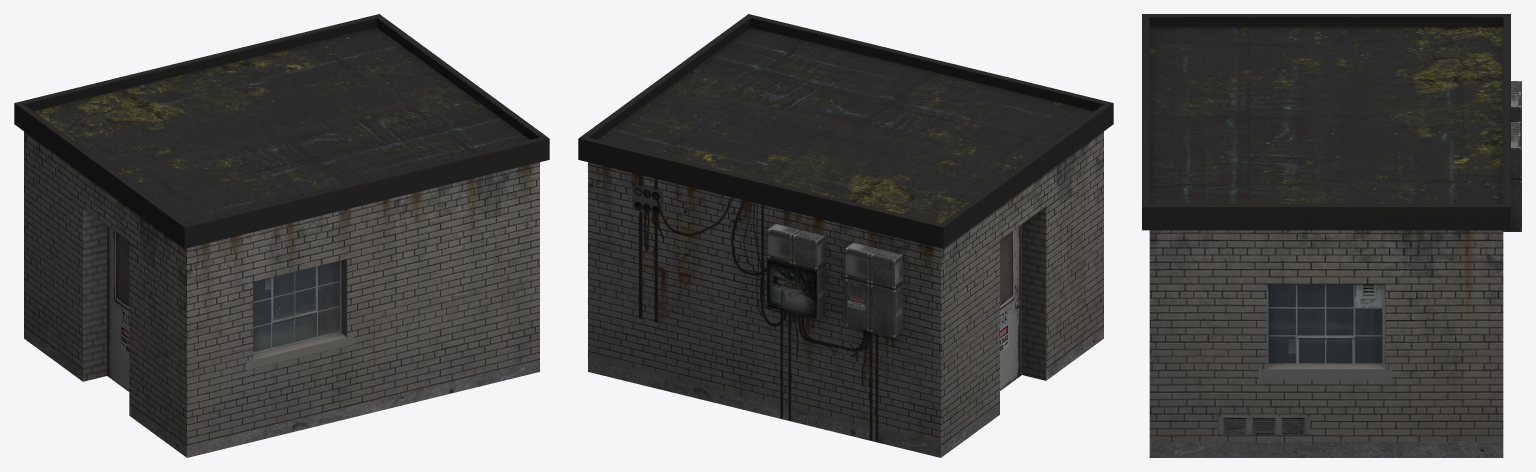
Rendered from utility_building_2.glb.
3 views of the same model, side by side, from view 1: azimuth 30°, elevation 25°; view 2: azimuth 150°, elevation 25°; view 3: azimuth 270°, elevation 25° (orthographic). The views are drawn at different scales.
Visible parts, largest first — view 1: Box001; view 2: Box001; view 3: Box001.
Boxes of the visible parts, x1,y1,x2,y2 form: Box001: [14, 14, 549, 457]; Box001: [578, 14, 1113, 457]; Box001: [1142, 14, 1521, 457].
Bounding box in the file's own units: 4.86 × 2.98 × 4.04.
Materials: 1 (1 with a texture image).
